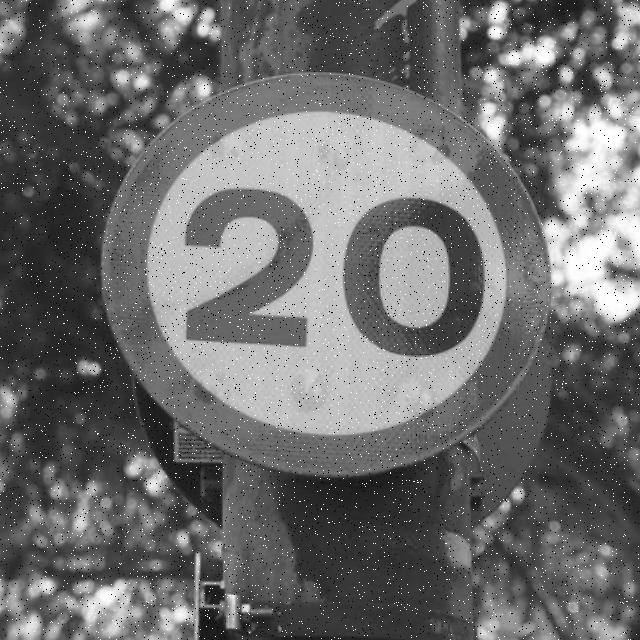speedlimit_20: (101, 77, 552, 475)
